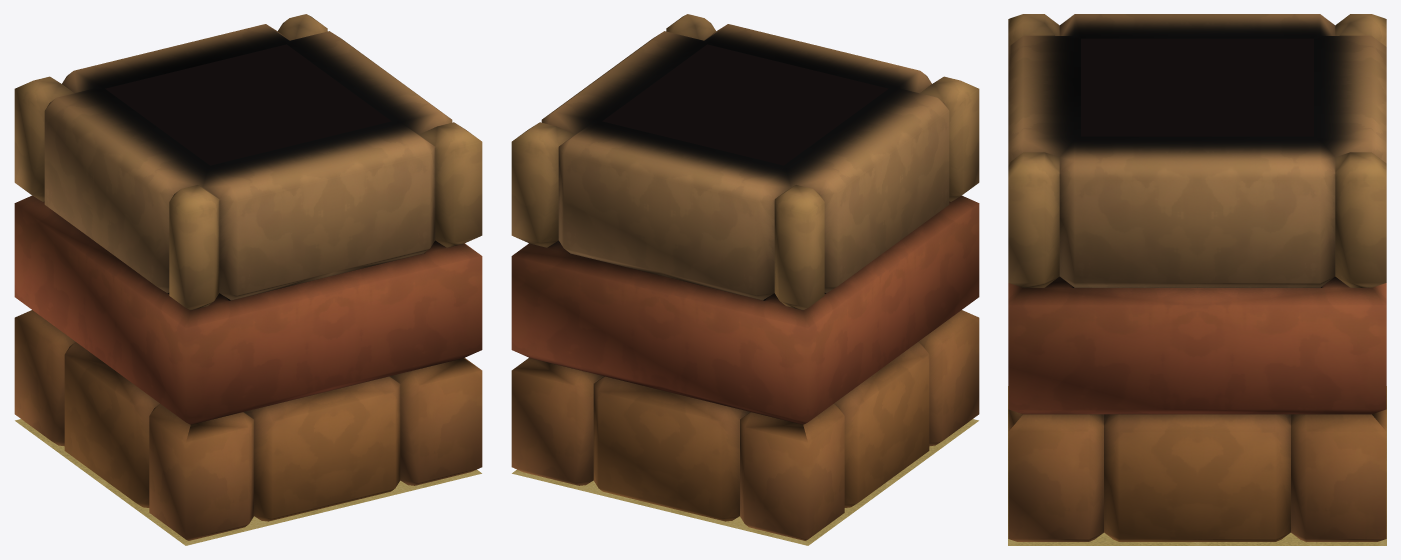
File: Mur_Bloc.FBX
3 views of the same model, side by side, from view 1: azimuth 30°, elevation 25°; view 2: azimuth 150°, elevation 25°; view 3: azimuth 270°, elevation 25° (orthographic). The views are drawn at different scales.
Visible parts, largest first — view 1: Mur; view 2: Mur; view 3: Mur.
Boxes of the visible parts, x1,y1,x2,y2 form: Mur: (14, 14, 482, 545); Mur: (511, 14, 979, 545); Mur: (1008, 14, 1386, 545).
Size of the model in its own units: 2 by 2.23 by 2.
